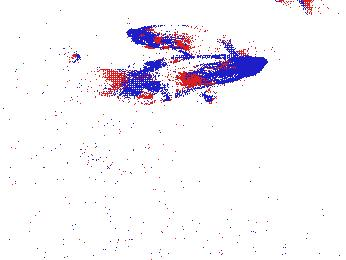glassfish: (79, 147, 184, 198)
red belly glassfish: (123, 84, 156, 106), (55, 48, 85, 65), (199, 86, 224, 103)
redtail glassfish: (109, 53, 262, 97), (128, 23, 247, 58)
